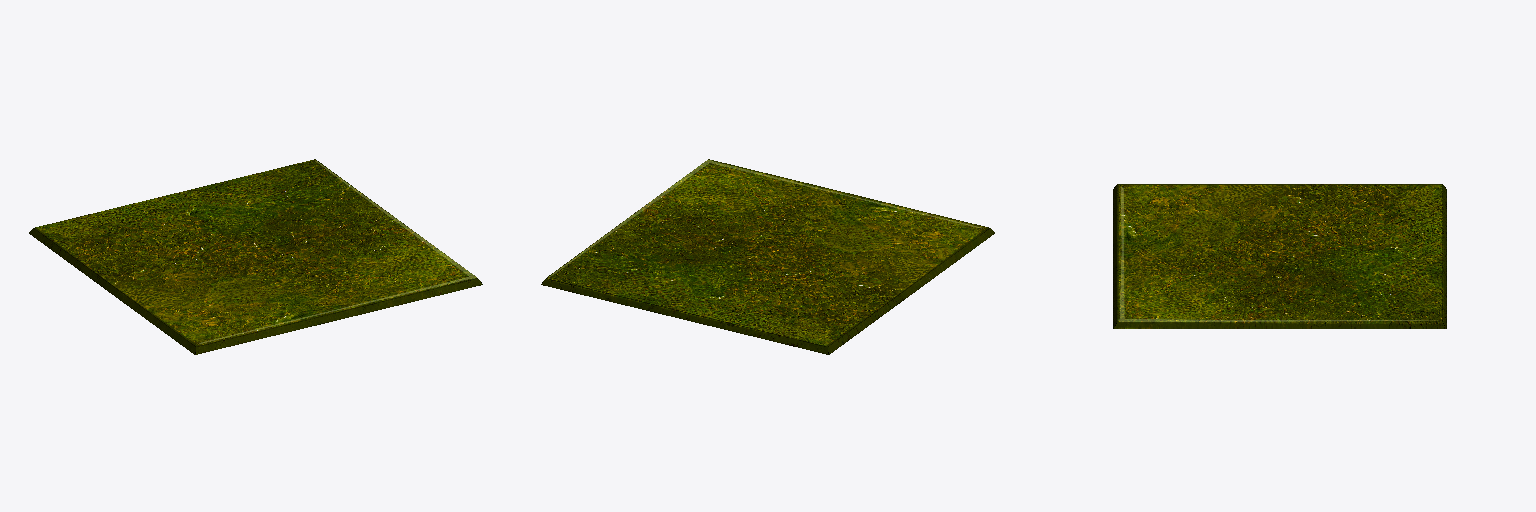
3 renders of one model, left to right at view 1: azimuth 30°, elevation 25°; view 2: azimuth 150°, elevation 25°; view 3: azimuth 270°, elevation 25°, orthographic.
Parts seen in each view (by area): view 1: env_slab_g1; view 2: env_slab_g1; view 3: env_slab_g1.
Part boxes in pixels (x1,y1,x2,y2): env_slab_g1: (29,159,482,354); env_slab_g1: (541,159,994,354); env_slab_g1: (1113,184,1446,328).
Size of the model in its own units: 500 by 10 by 500.
Materials: 1 (1 with a texture image).